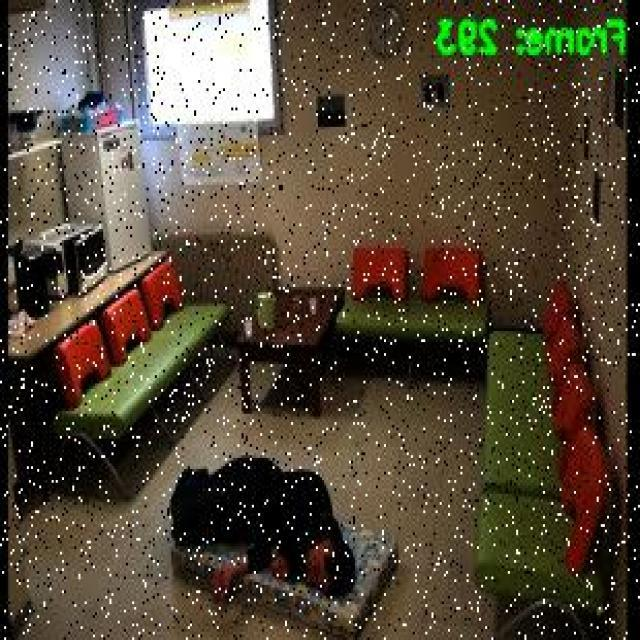fall: (166, 447, 358, 610)
